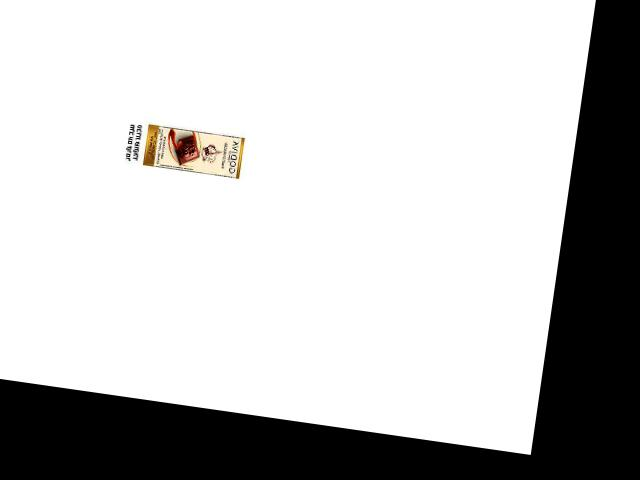chocolate: (139, 120, 247, 178)
